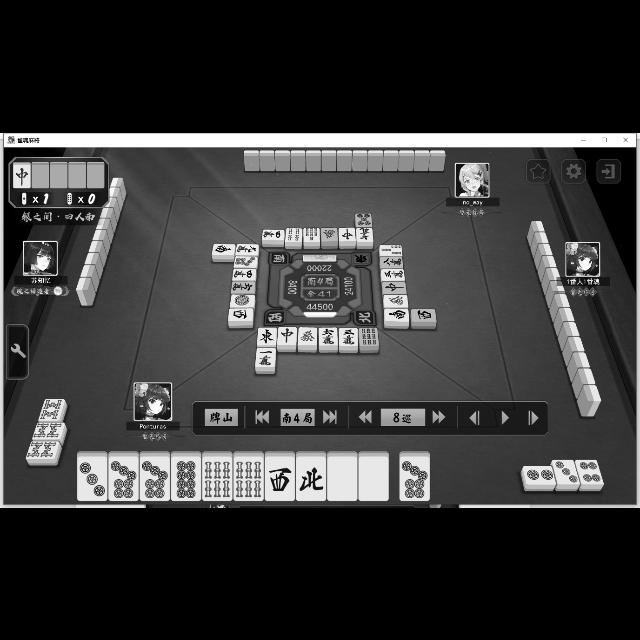1m: (254, 347, 276, 367)
1p: (229, 294, 255, 306)
2p: (523, 464, 557, 484)
3m: (338, 326, 358, 346), (381, 268, 405, 280)
3p: (78, 456, 108, 500), (554, 460, 580, 484)
3s: (379, 244, 403, 256)
4m: (232, 268, 258, 280), (261, 228, 285, 240)
4p: (578, 458, 604, 482)
4s: (284, 225, 302, 242)
5p: (353, 212, 372, 226)
6m: (230, 280, 256, 294), (319, 326, 337, 346)
6s: (233, 456, 264, 500), (202, 456, 232, 500)
7m: (356, 226, 374, 242)
7p: (109, 456, 139, 500), (140, 456, 170, 500), (399, 456, 429, 499), (232, 255, 258, 268)
7s: (303, 226, 321, 240)
8m: (379, 255, 403, 267)
8p: (170, 456, 202, 498)
8s: (26, 440, 59, 458), (39, 397, 63, 421), (32, 421, 64, 439)
9m: (234, 242, 260, 254)
9s: (359, 327, 378, 345)
chun: (13, 162, 31, 188), (382, 280, 406, 294), (279, 327, 297, 345), (338, 226, 356, 240)
haku: (327, 454, 358, 500), (359, 458, 389, 500)
hatsu: (299, 324, 317, 346), (382, 294, 412, 306), (321, 227, 339, 241)
nan: (382, 308, 410, 322), (211, 242, 235, 254)
pe: (296, 456, 326, 500)
sha: (266, 456, 294, 500), (226, 308, 254, 322), (412, 308, 438, 320)
tou: (257, 326, 277, 346)
